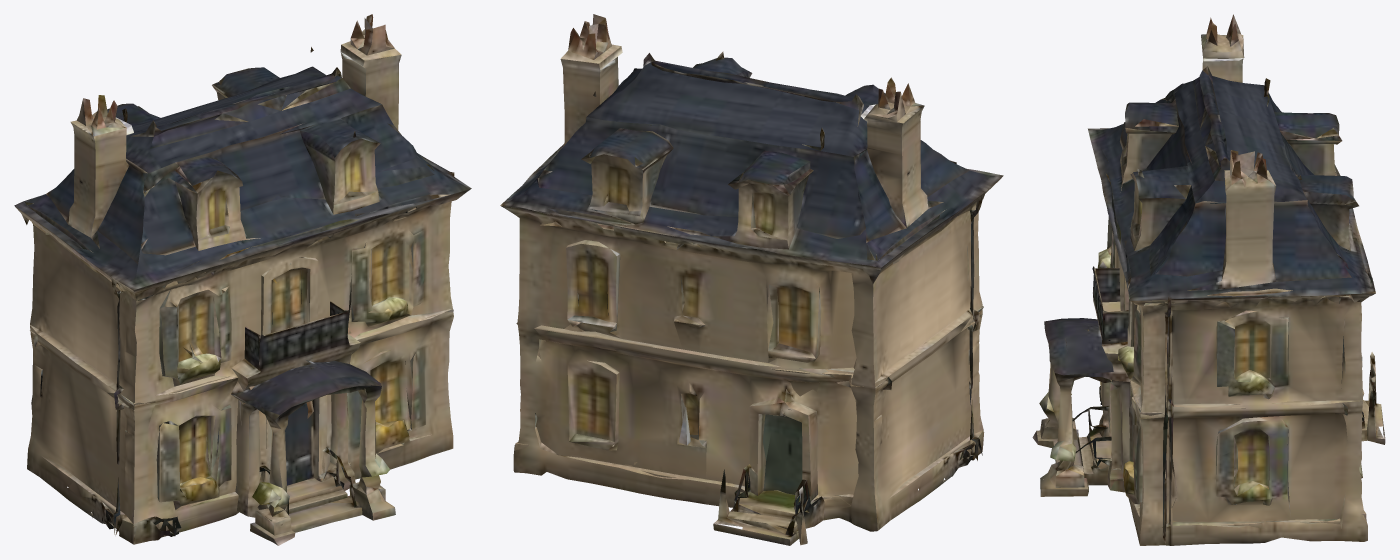
The picture shows the model from 3 angles, left to right: view 1: azimuth 30°, elevation 25°; view 2: azimuth 150°, elevation 25°; view 3: azimuth 270°, elevation 25°; orthographic projection. The views are drawn at different scales.
Parts seen in each view (by area): view 1: classic__hotel_2__neural_lod; view 2: classic__hotel_2__neural_lod; view 3: classic__hotel_2__neural_lod.
Boxes of the visible parts, left/top/right/bottom form: classic__hotel_2__neural_lod: left=14, top=14, right=471, bottom=545; classic__hotel_2__neural_lod: left=500, top=14, right=1003, bottom=545; classic__hotel_2__neural_lod: left=1032, top=14, right=1385, bottom=545.
Size of the model in its own units: 0.9408 by 0.9823 by 0.8137.
Materials: 1 (1 with a texture image).
